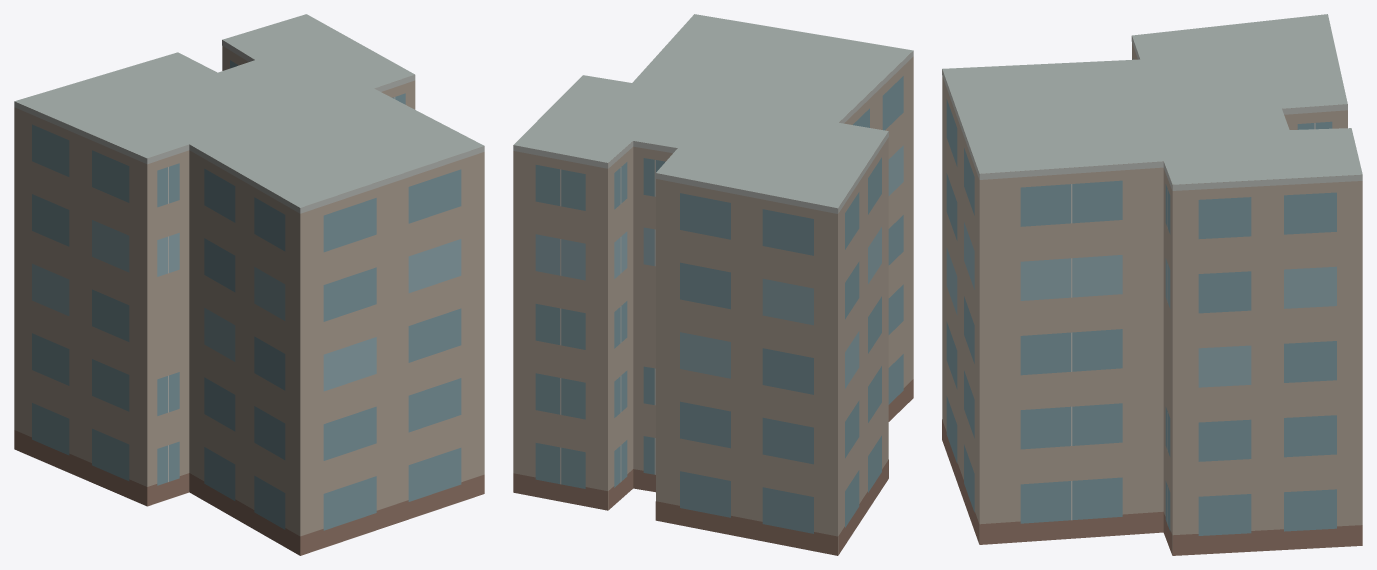
File: survey-upis-32769883.glb
3 renders of one model, left to right at view 1: azimuth 30°, elevation 25°; view 2: azimuth 150°, elevation 25°; view 3: azimuth 270°, elevation 25°, orthographic. The views are drawn at different scales.
Parts seen in each view (by area): view 1: survey-upis-32769883.tmp; view 2: survey-upis-32769883.tmp; view 3: survey-upis-32769883.tmp.
Boxes of the visible parts, x1,y1,x2,y2 form: survey-upis-32769883.tmp: (14,14,484,555); survey-upis-32769883.tmp: (513,14,913,555); survey-upis-32769883.tmp: (942,14,1362,555).
Size of the model in its own units: 14.42 by 14.6 by 15.01.
